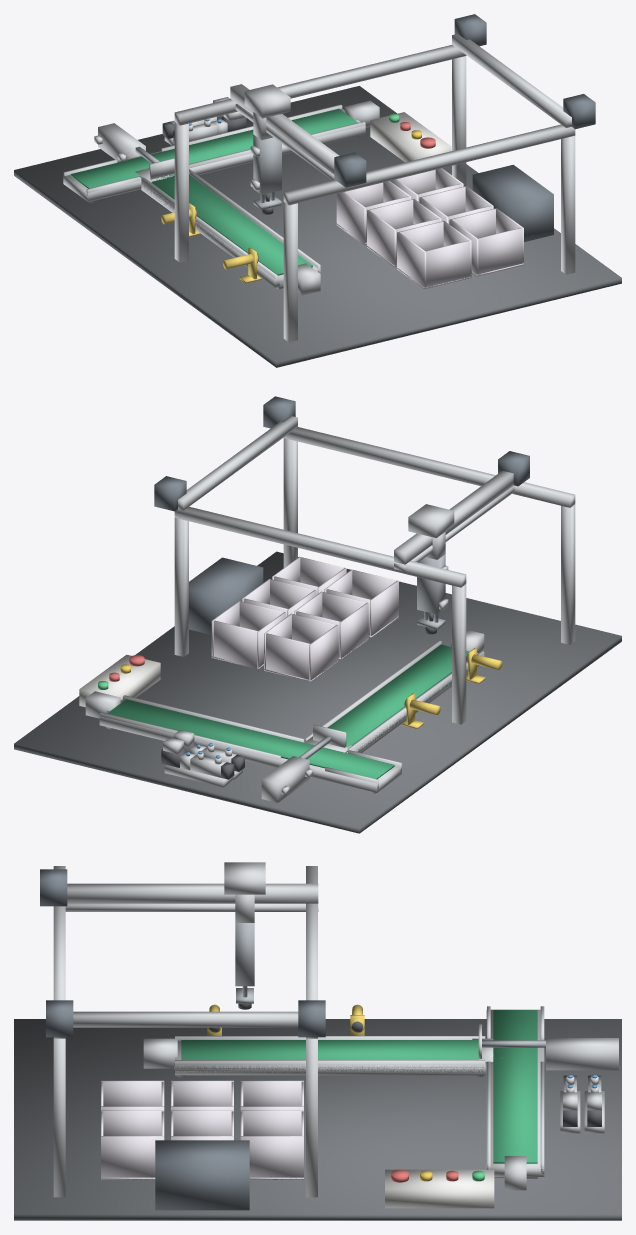
The model's file is production_twin_v4_a1_extended.glb.
3 views of the same model, one above another, from view 1: azimuth 30°, elevation 25°; view 2: azimuth 150°, elevation 25°; view 3: azimuth 270°, elevation 25° (orthographic). The views are drawn at different scales.
Visible parts, largest first — view 1: base board, gantry X rail rear, PLC 1214C envelope, long green belt, front green belt, gantry X rail front, right Y guide, button station envelope, front conveyor chassis, gantry post left front, gantry post left rear, gantry post right rear (+27 smaller); view 2: base board, front green belt, gantry X rail front, gantry X rail rear, long green belt, PLC 1214C envelope, front conveyor chassis, right Y guide, moving Y rail, gantry post left front, gantry post left rear, gantry post right front (+27 smaller); view 3: base board, PLC 1214C envelope, front green belt, long green belt, moving Y rail, button station envelope, right Y guide, long conveyor side rail 1, long conveyor chassis, A1 front pusher cylinder, bin R3C2 side wall 1, bin R1C2 side wall 1 (+23 smaller).
Boxes of the visible parts, x1,y1,x2,y2 form: base board: (14, 86, 621, 367); gantry X rail rear: (283, 124, 575, 205); PLC 1214C envelope: (472, 164, 553, 241); long green belt: (151, 174, 312, 275); front green belt: (70, 108, 357, 188); gantry X rail front: (174, 45, 466, 125); right Y guide: (452, 34, 571, 127); button station envelope: (370, 112, 451, 162); front conveyor chassis: (63, 108, 365, 202); gantry post left front: (174, 122, 188, 262); gantry post left rear: (283, 202, 297, 342); gantry post right rear: (561, 135, 575, 274); base board: (14, 551, 621, 833); front green belt: (107, 699, 394, 779); gantry X rail front: (174, 506, 466, 587); gantry X rail rear: (283, 427, 575, 507); long green belt: (327, 644, 469, 747); PLC 1214C envelope: (189, 557, 263, 634); front conveyor chassis: (99, 699, 401, 792); right Y guide: (178, 416, 297, 510); moving Y rail: (394, 470, 513, 564); gantry post left front: (452, 584, 466, 724); gantry post left rear: (561, 504, 575, 644); gantry post right front: (174, 518, 188, 656); base board: (14, 1019, 621, 1220); PLC 1214C envelope: (155, 1140, 249, 1210); front green belt: (493, 1010, 537, 1163); long green belt: (181, 1040, 478, 1059); moving Y rail: (67, 883, 318, 903); button station envelope: (385, 1169, 494, 1208); right Y guide: (73, 1011, 298, 1027); long conveyor side rail 1: (175, 1060, 485, 1072); long conveyor chassis: (175, 1040, 485, 1075); A1 front pusher cylinder: (546, 1038, 618, 1070); bin R3C2 side wall 1: (101, 1136, 164, 1179); bin R1C2 side wall 1: (240, 1136, 303, 1179).
Bounding box in the file's own units: 0.76 × 0.375 × 1.
